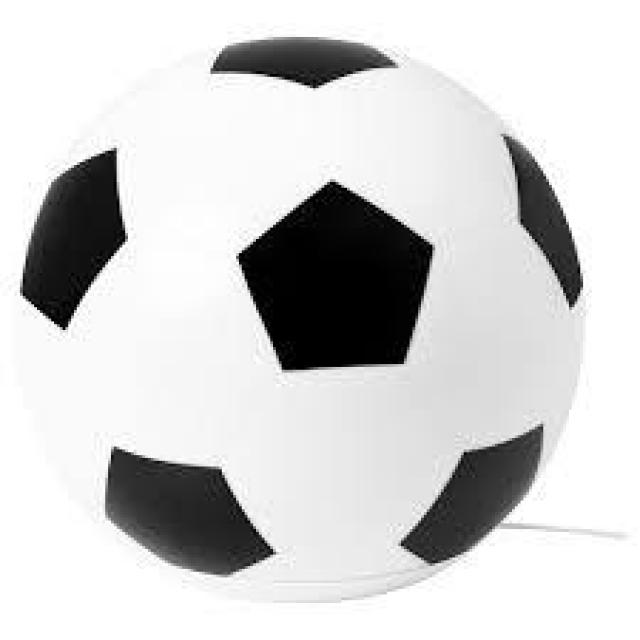Soccer Ball: (17, 40, 589, 603)
